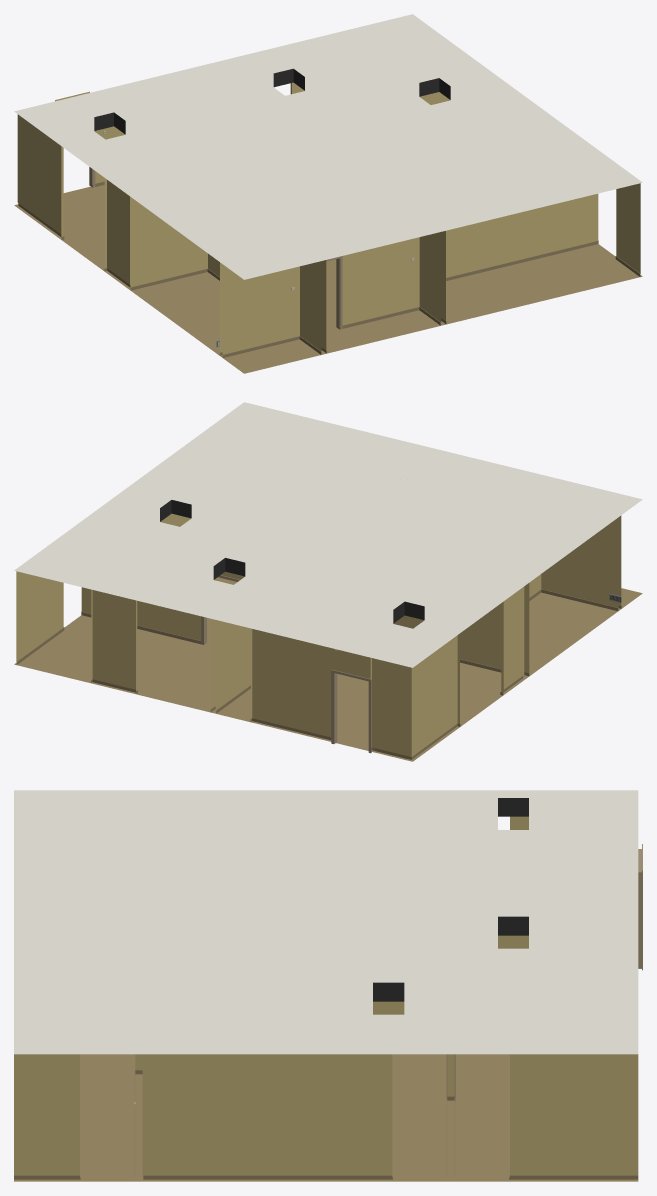
Rendered from chunk_3_4.glb.
The picture shows the model from 3 angles, top to bottom: view 1: azimuth 30°, elevation 25°; view 2: azimuth 150°, elevation 25°; view 3: azimuth 270°, elevation 25°; orthographic projection. The views are drawn at different scales.
Visible parts, largest first — view 1: chunk_3_4; view 2: chunk_3_4; view 3: chunk_3_4.
Part boxes in pixels (box(x1,y1,x2,y2)): chunk_3_4: box(14, 14, 642, 373); chunk_3_4: box(14, 402, 642, 761); chunk_3_4: box(14, 790, 642, 1181).
Bounding box in the file's own units: 12.1 × 3.1 × 12.09.
